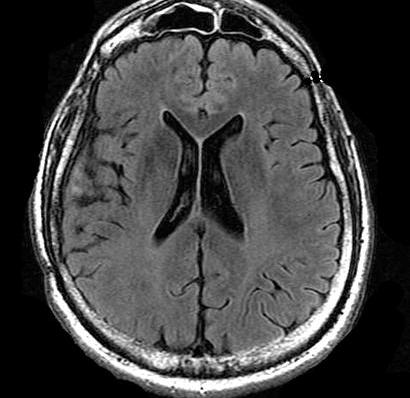Normal_Brain: (40, 1, 374, 398)
